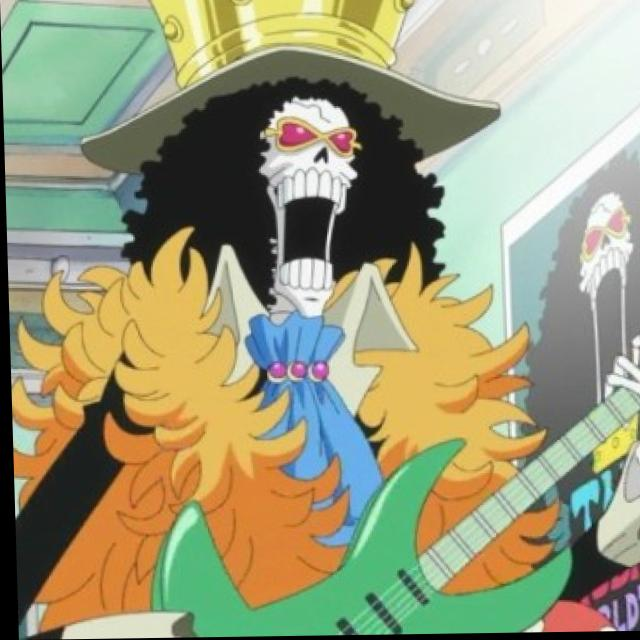Blook: (119, 31, 452, 349)
